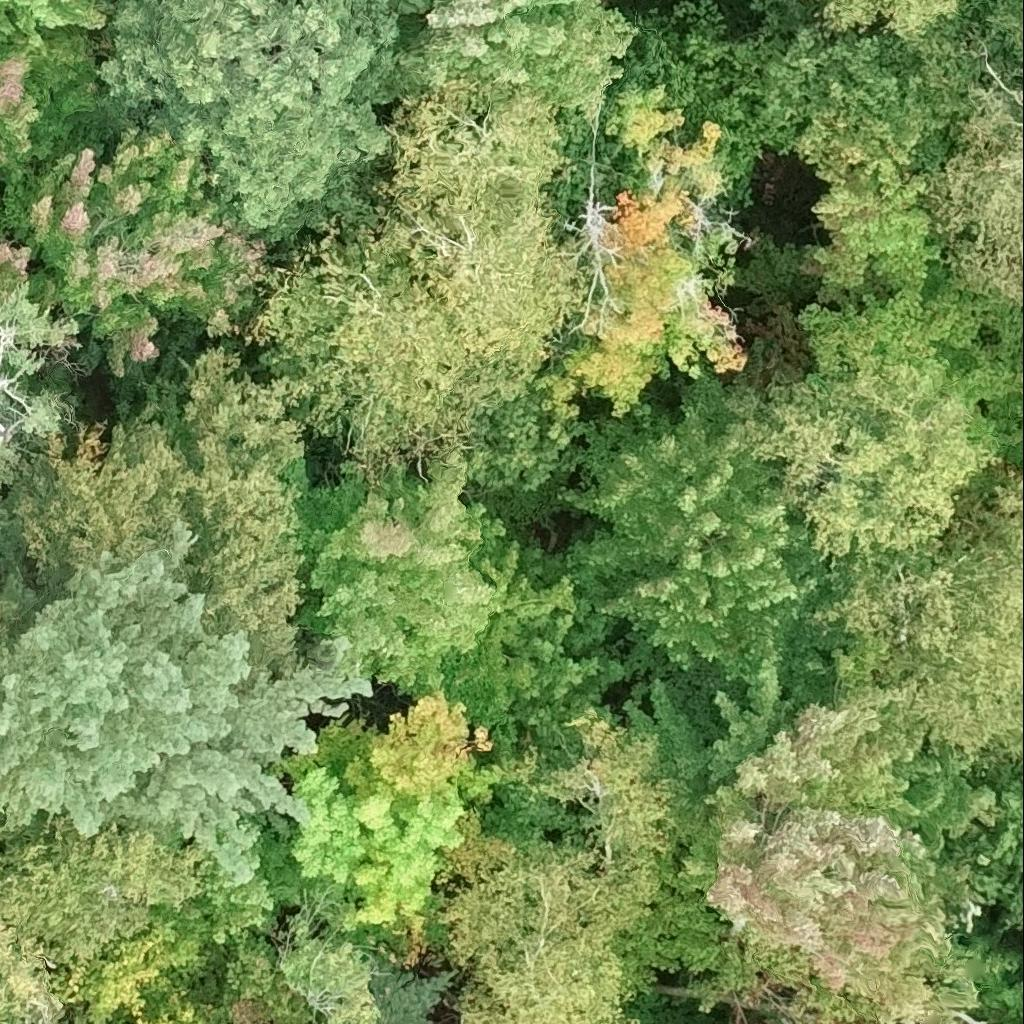crown: (89, 0, 402, 246), (233, 222, 518, 479), (3, 110, 269, 378), (534, 82, 745, 417), (373, 79, 588, 374), (379, 0, 641, 113), (786, 110, 941, 300), (927, 71, 1023, 304), (0, 29, 96, 176), (819, 0, 966, 38), (0, 0, 107, 45), (0, 204, 34, 306)
